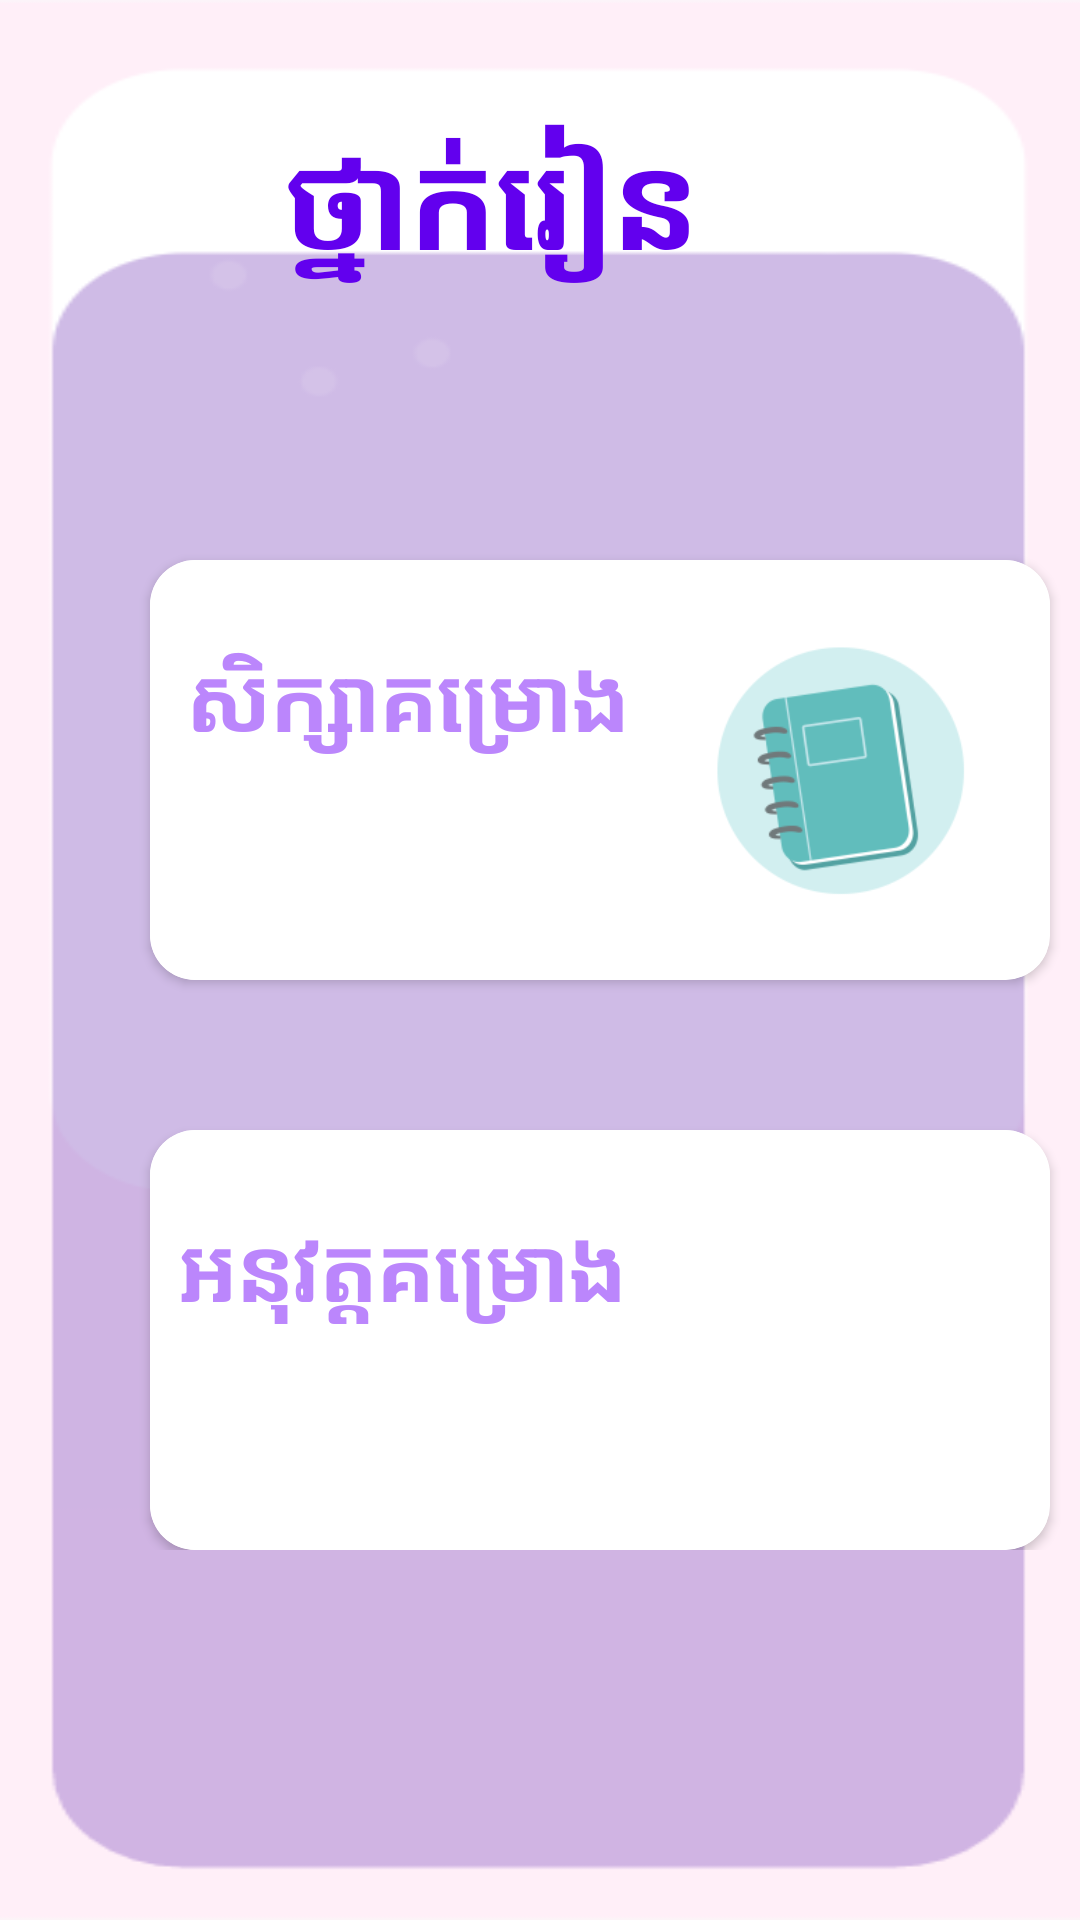

Where to tap for icons on this 1080px×1920px app screen, as [x,y]:
lesson: [840,770]
